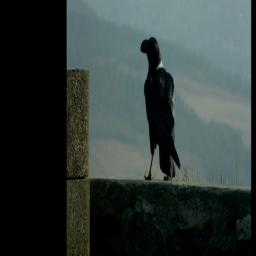Crow: (139, 35, 181, 181)
